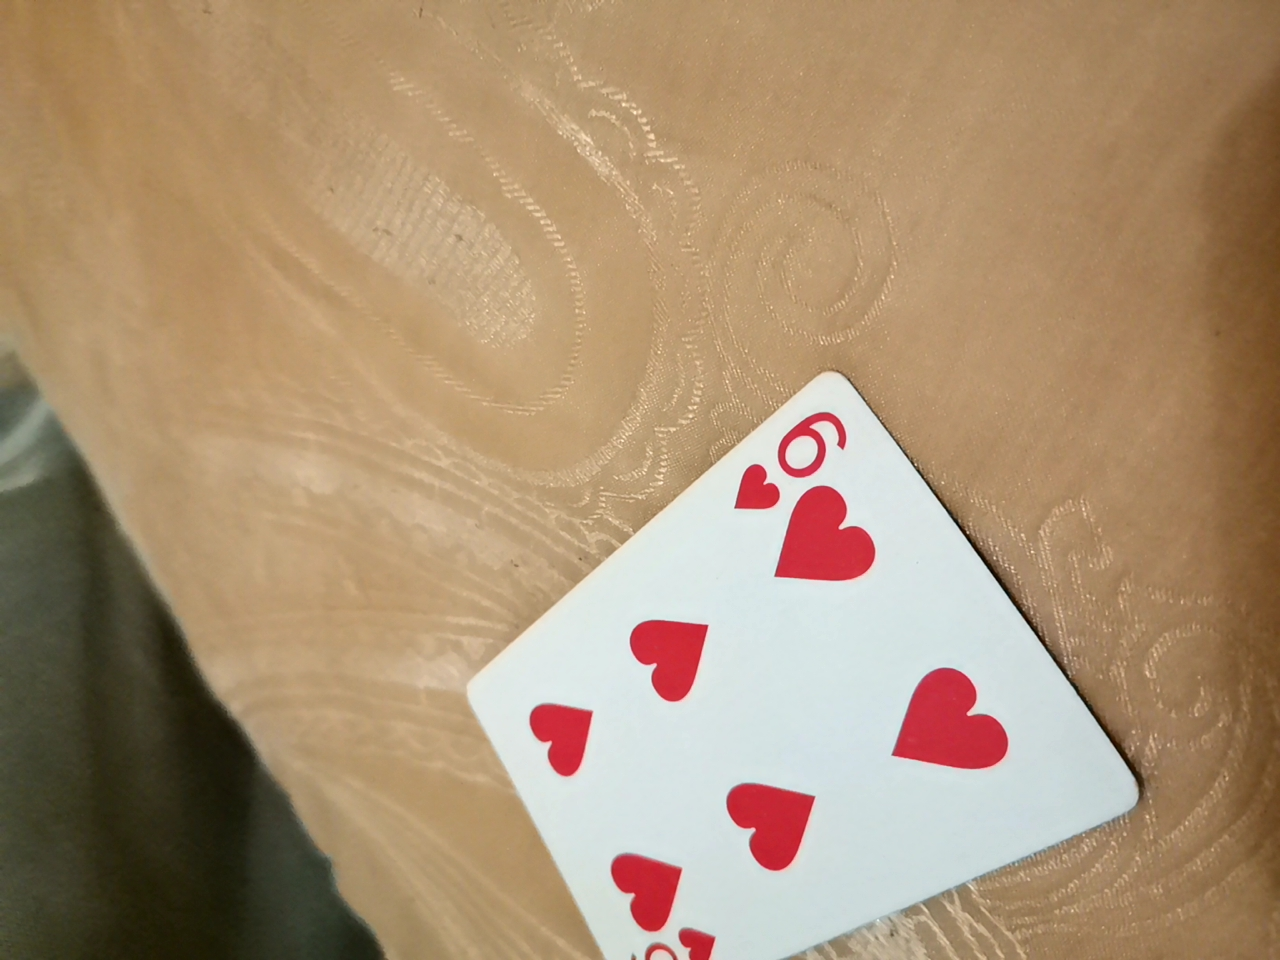hx 6: (424, 323, 1159, 958)
